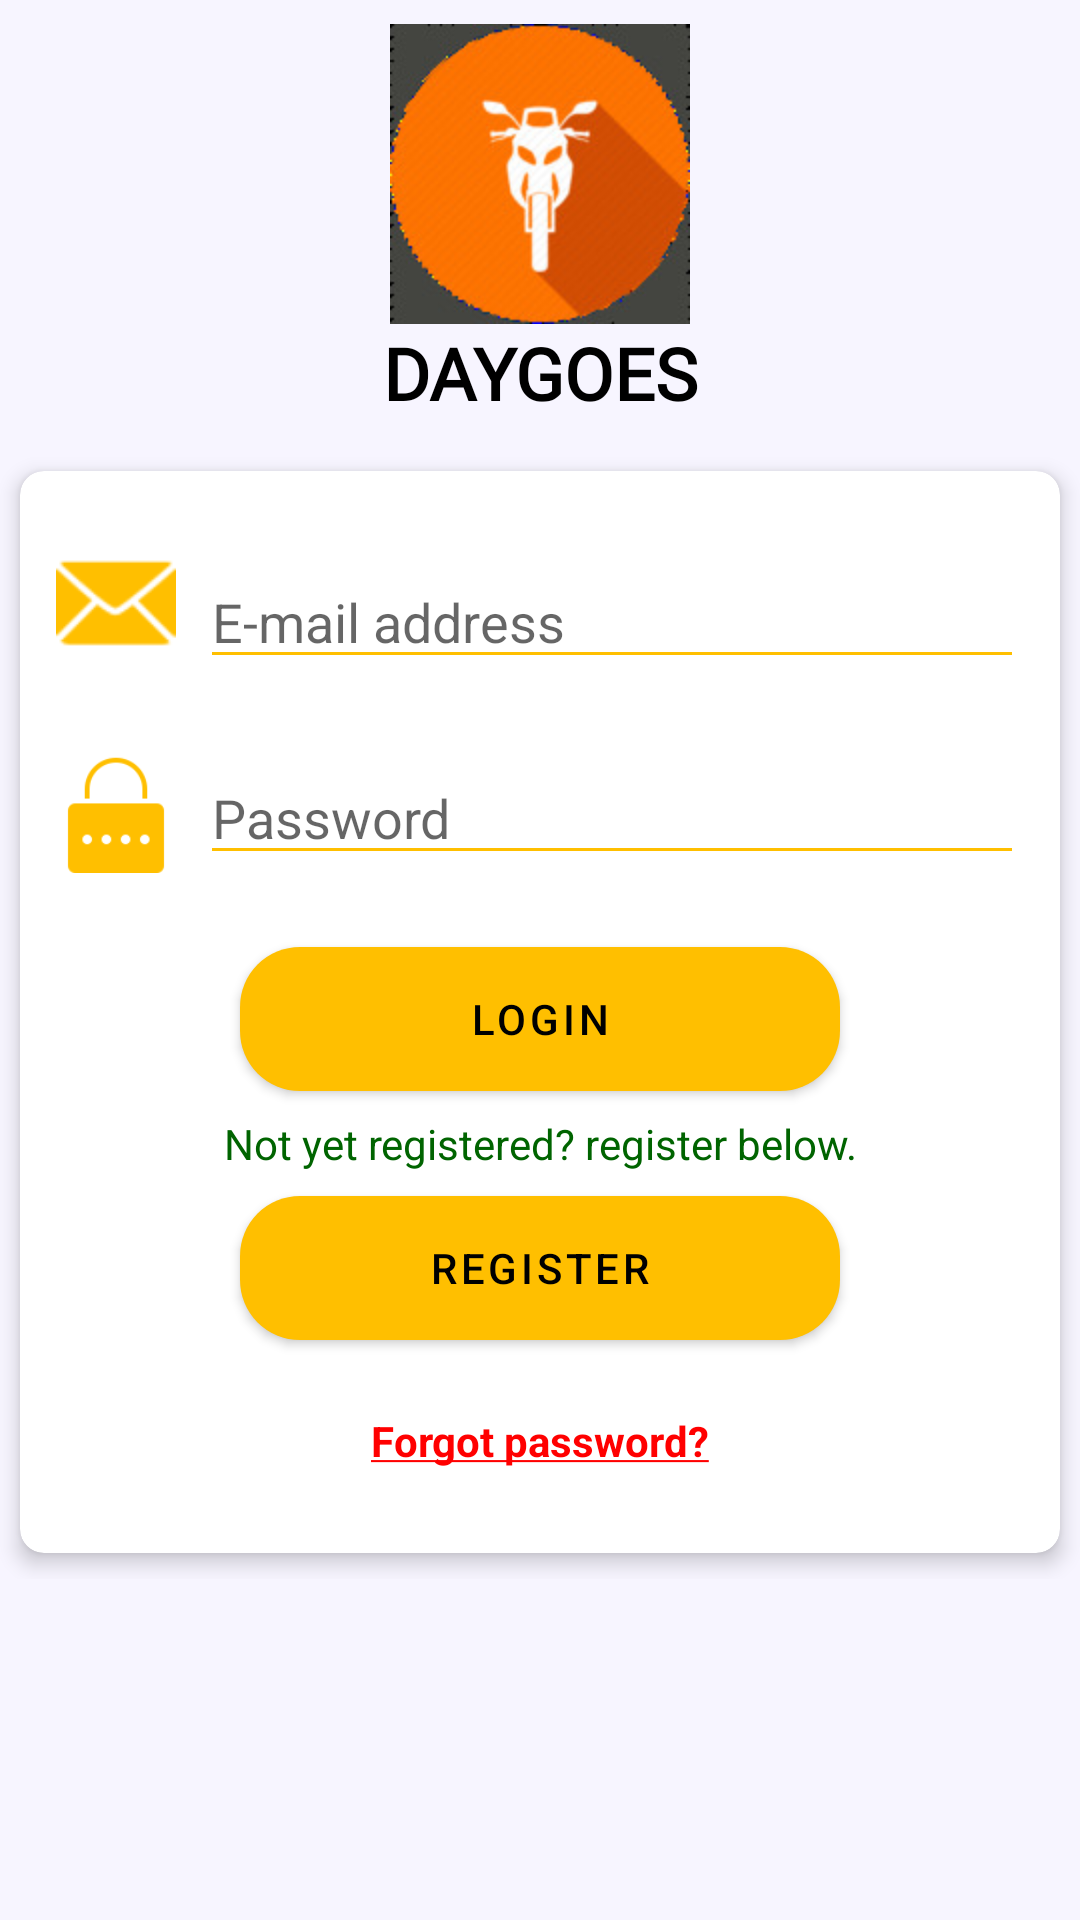

Icons on this 1080px×1920px Android screen, each with the point to tap as point (x, y):
email icon: point (116, 603)
